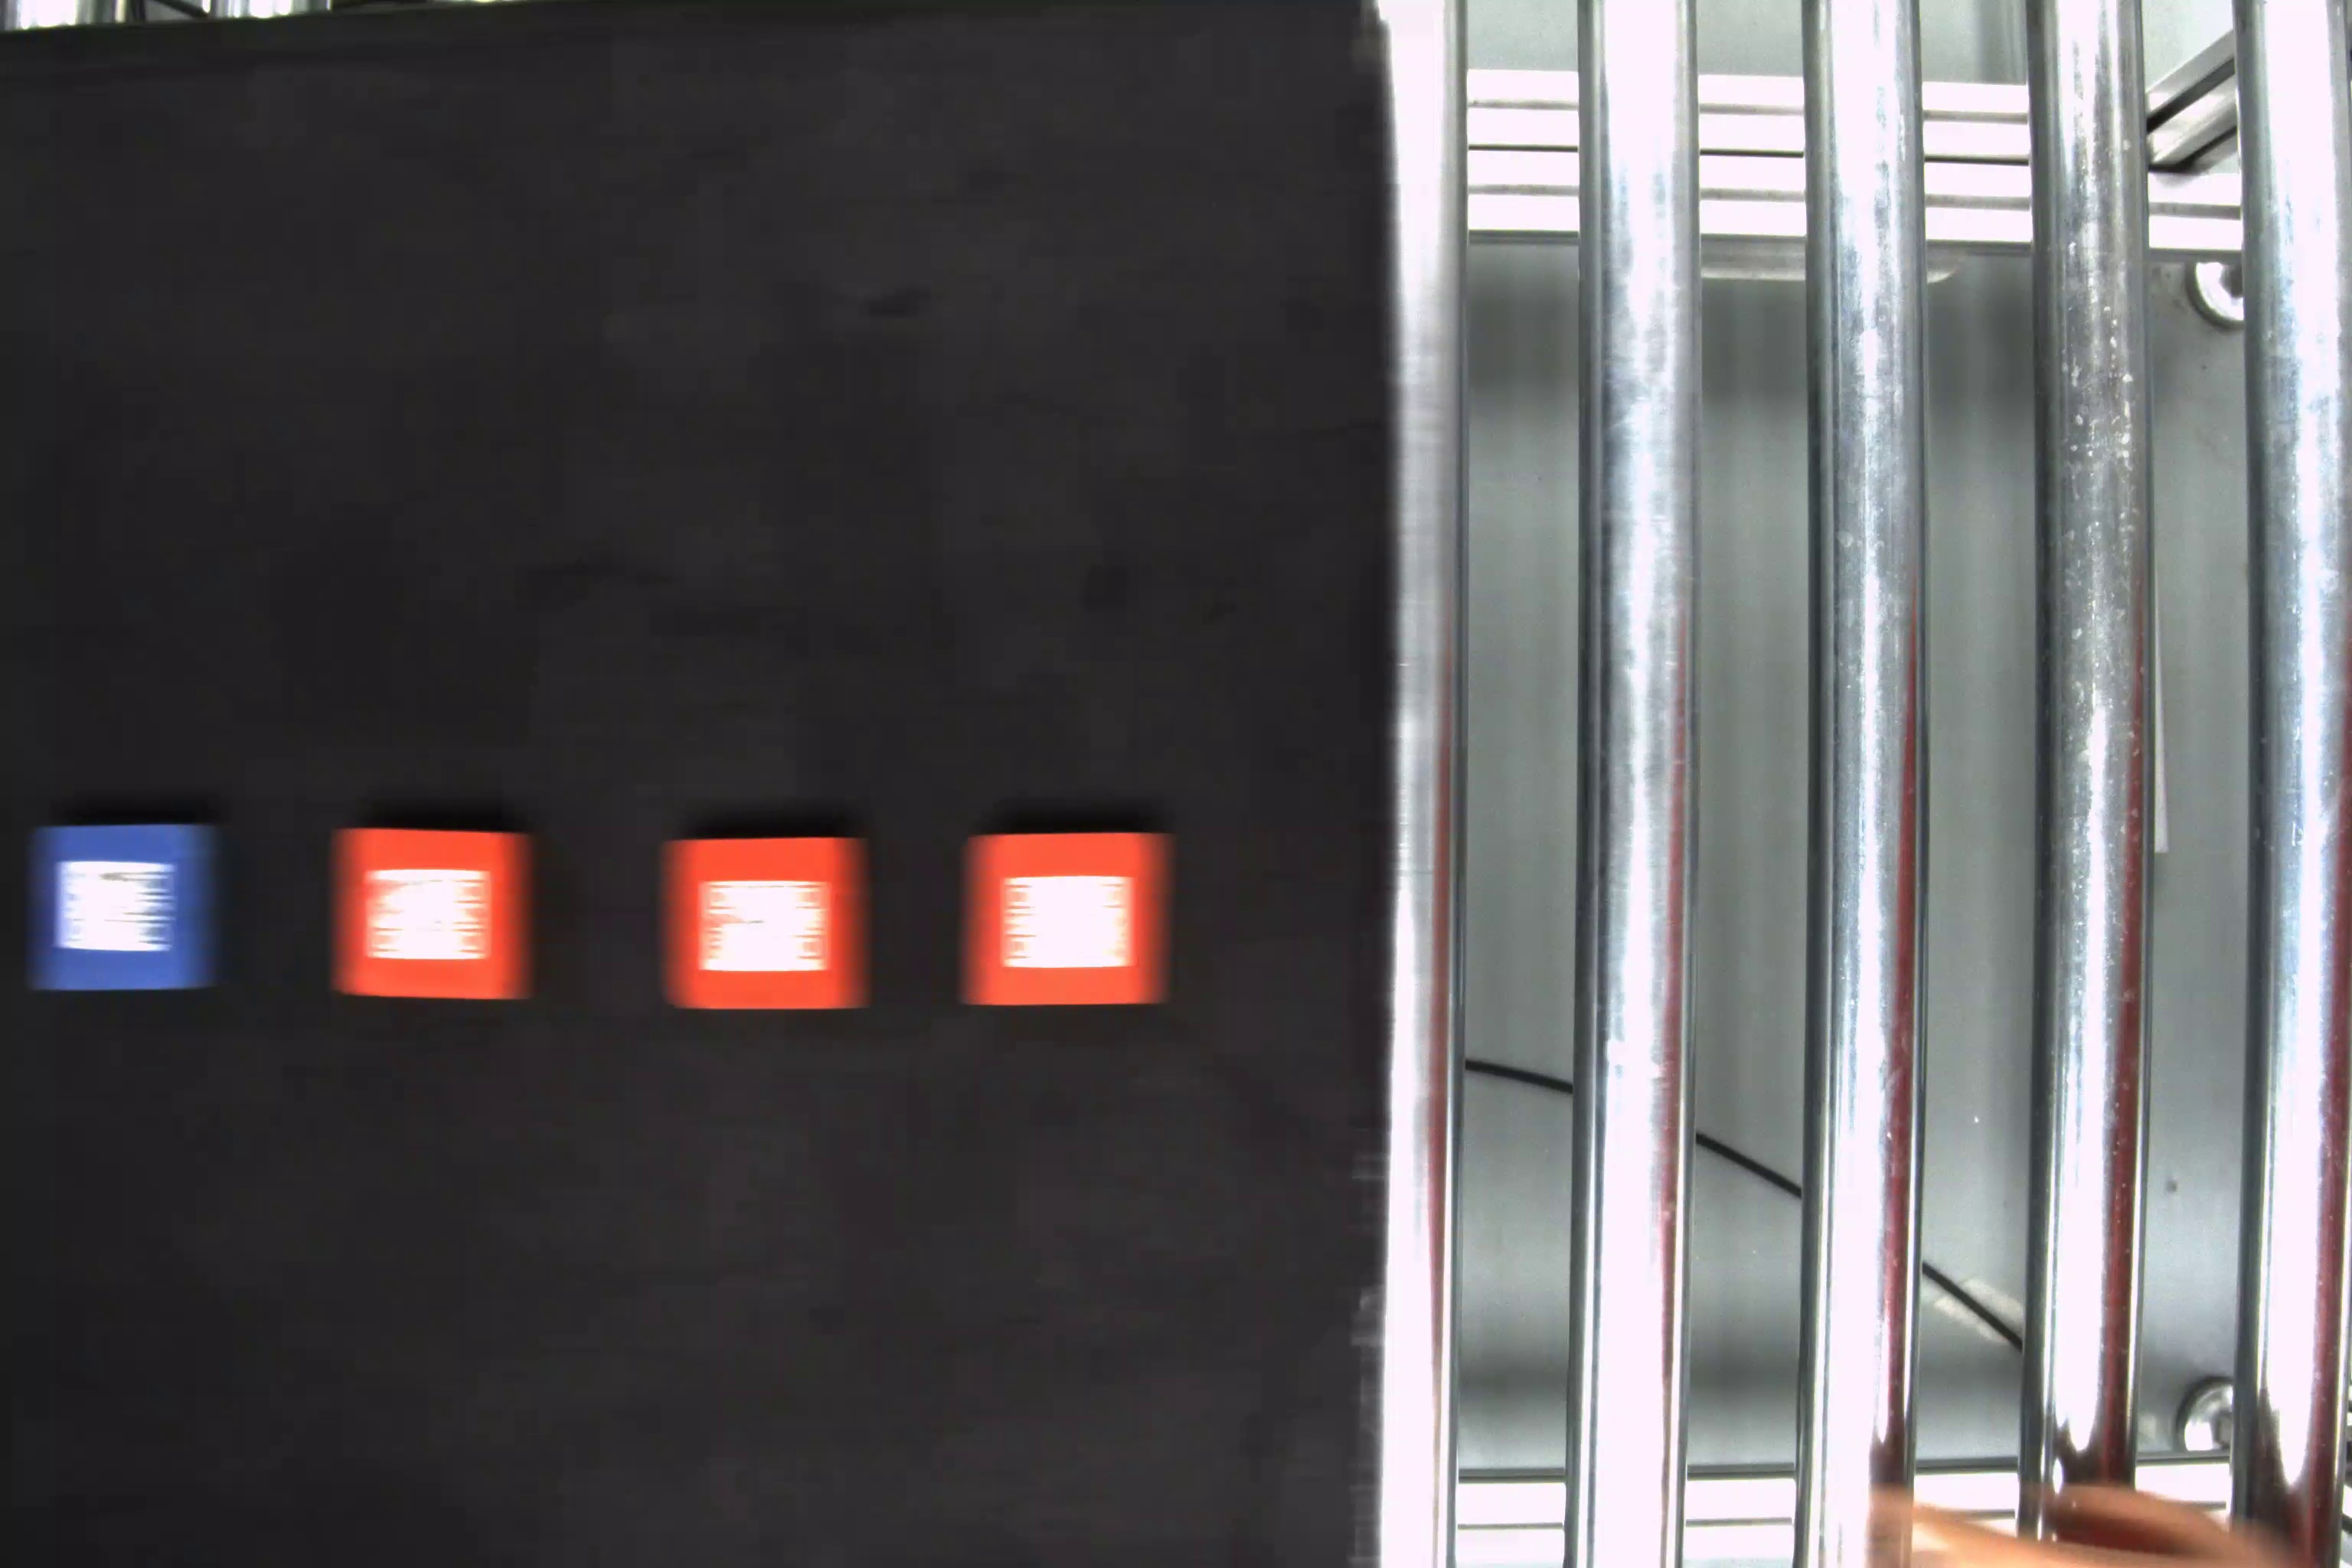wood: (324, 824, 546, 1011), (660, 831, 870, 1011), (962, 833, 1174, 1008), (26, 826, 219, 987)
